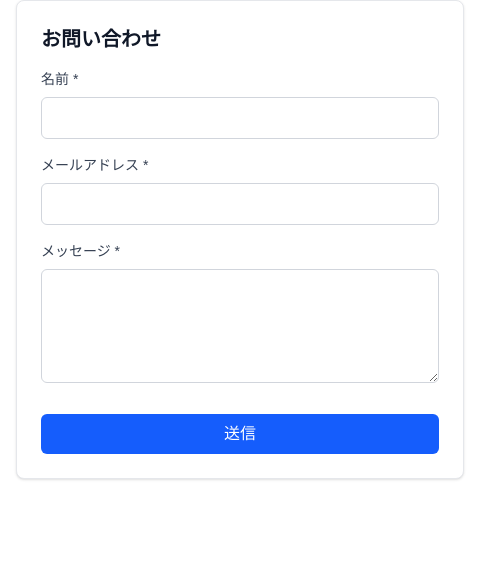
Test case: ContactForm Integration › validates required fields and shows error messages
The width and height of the screenshot is (481, 569).
Click the button with test id "submit-button".
click(240, 434)  # box [41, 414, 439, 454]
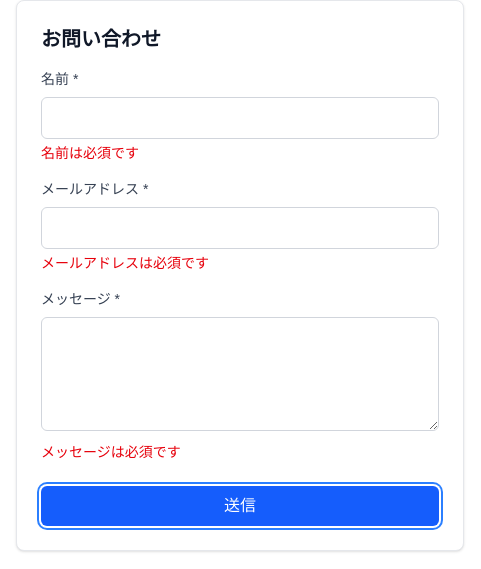
Expected: the text with test id "name-error" reads "名前は必須です", [41, 145, 139, 161]
Expected: the text with test id "email-error" reads "メールアドレスは必須です", [41, 255, 209, 271]
Expected: the text with test id "message-error" reads "メッセージは必須です", [41, 444, 181, 460]
